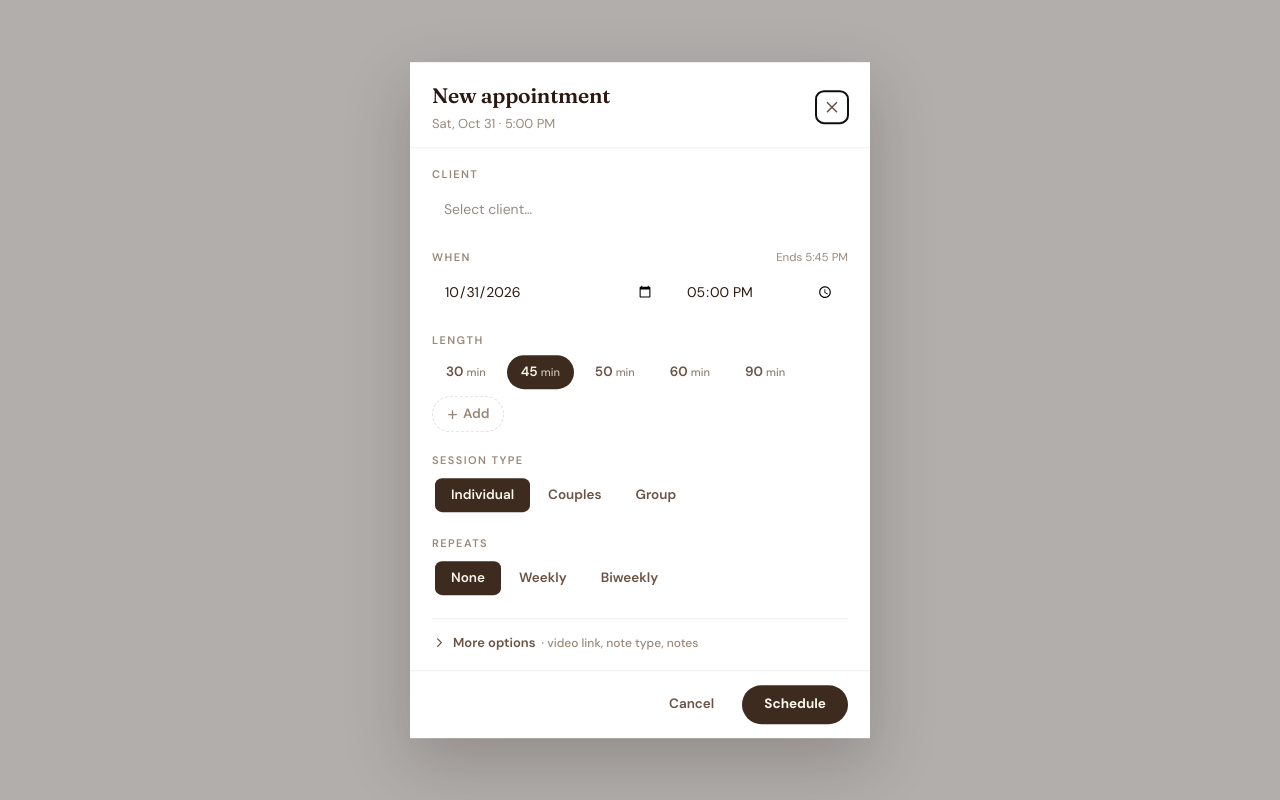
Test: AppointmentModal › Auto-title caption › lets the user override the title and reset it back to auto
Click the dropdown labelled "Select client…". click: (640, 209)
box: [432,189,848,229]
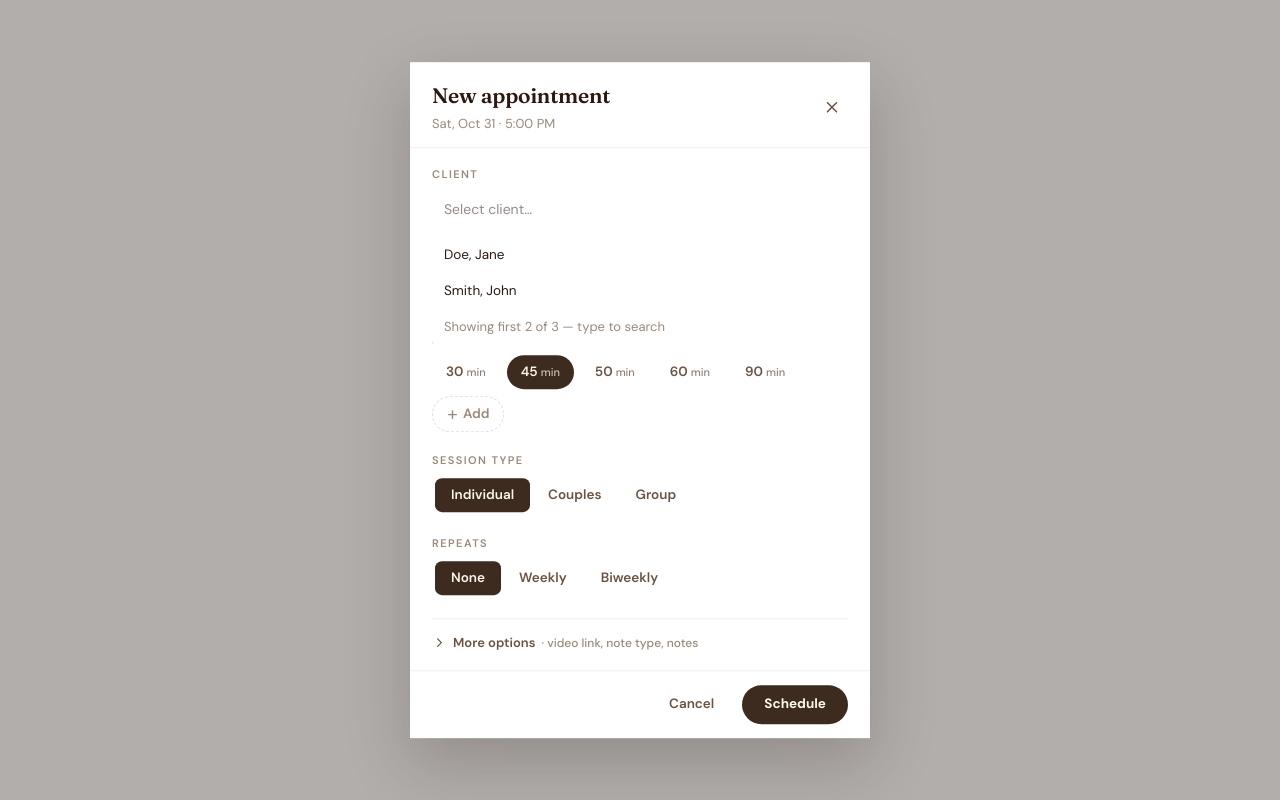
Click the option "Doe, Jane". click: (474, 254)
box: [444,246,504,263]
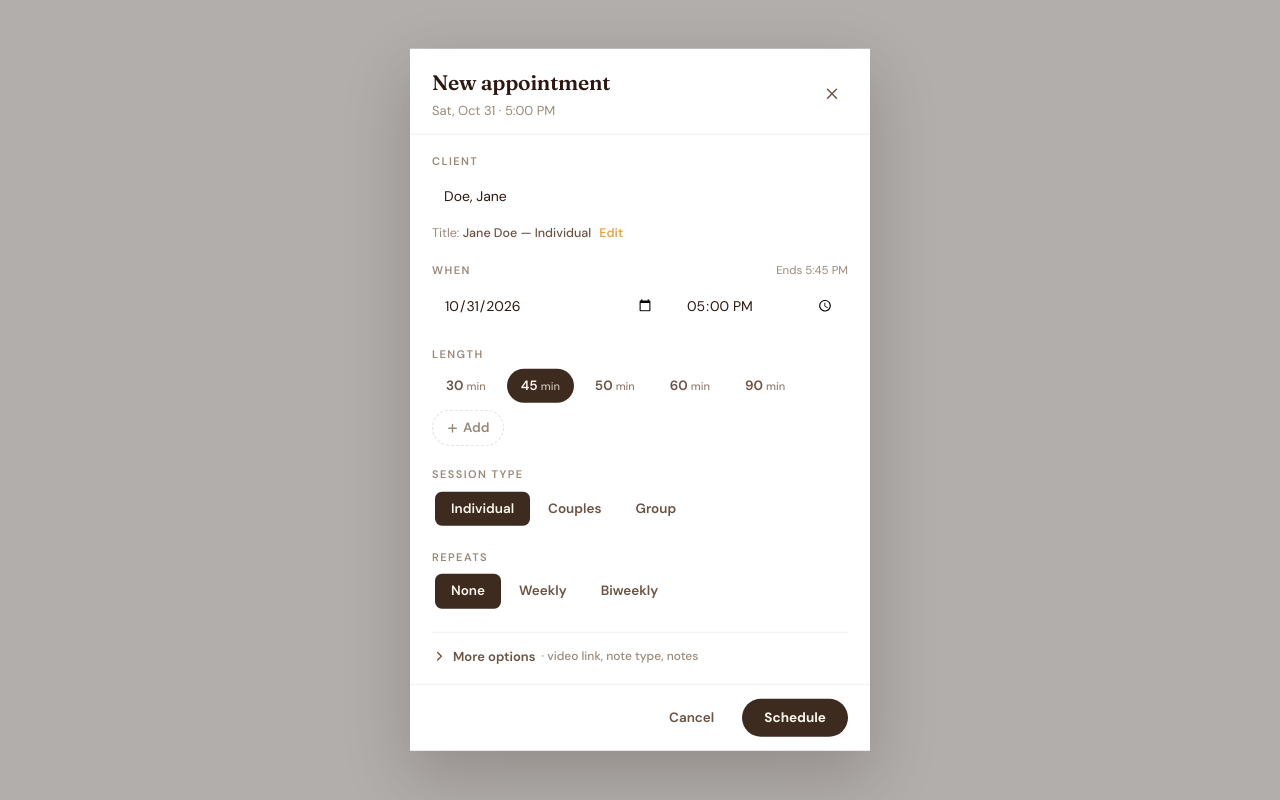
Click the button "Edit". click: (611, 233)
box: [599,223,623,242]
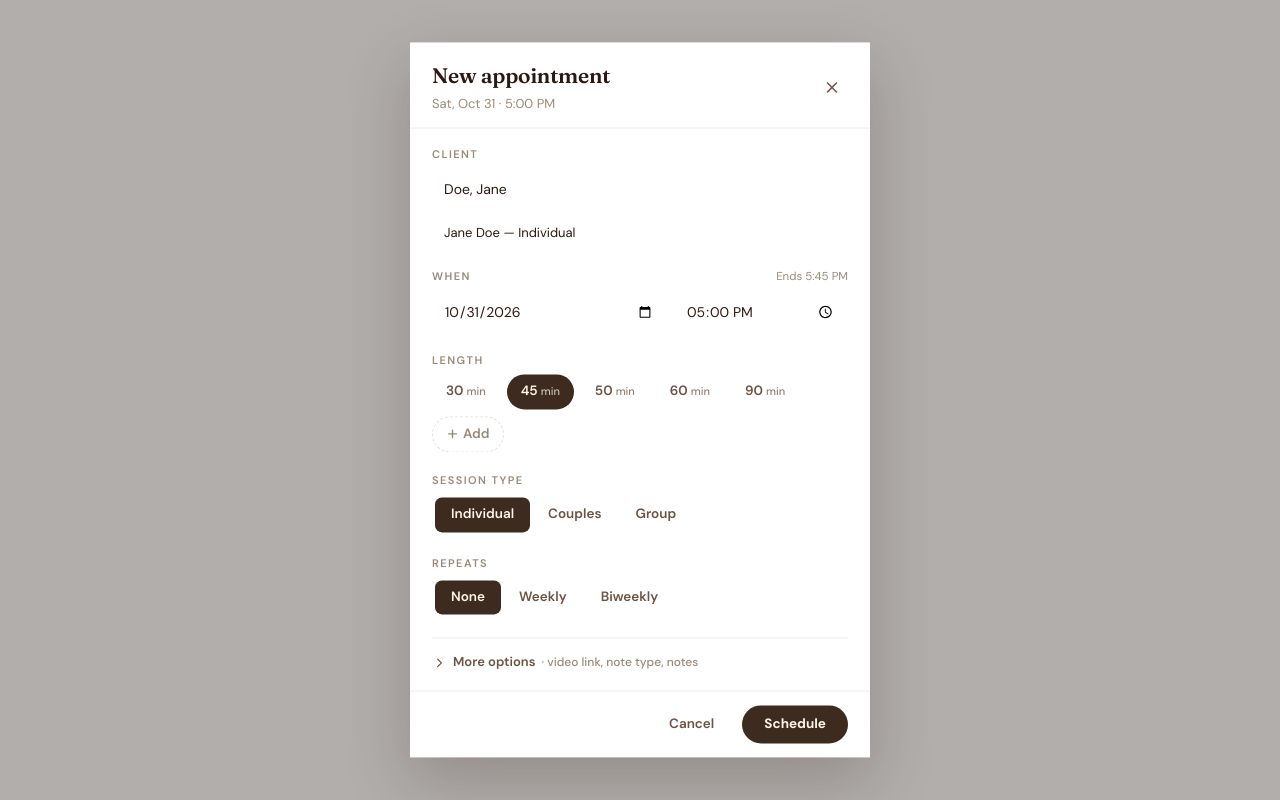
Replace the text in the field named "Title" with "Custom Title". click: (640, 233)
box: [432,217,848,248]
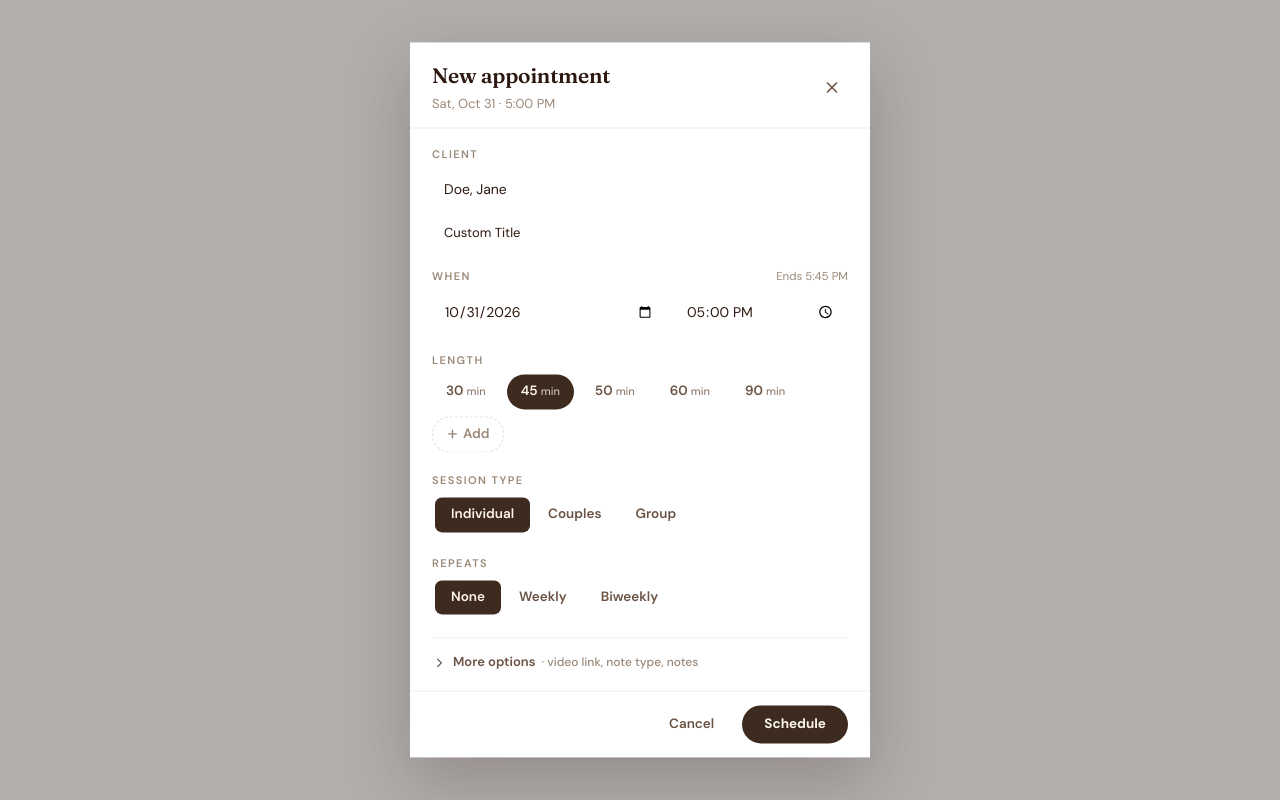
# Blur out of the inline editor to commit the override.
Press Tab
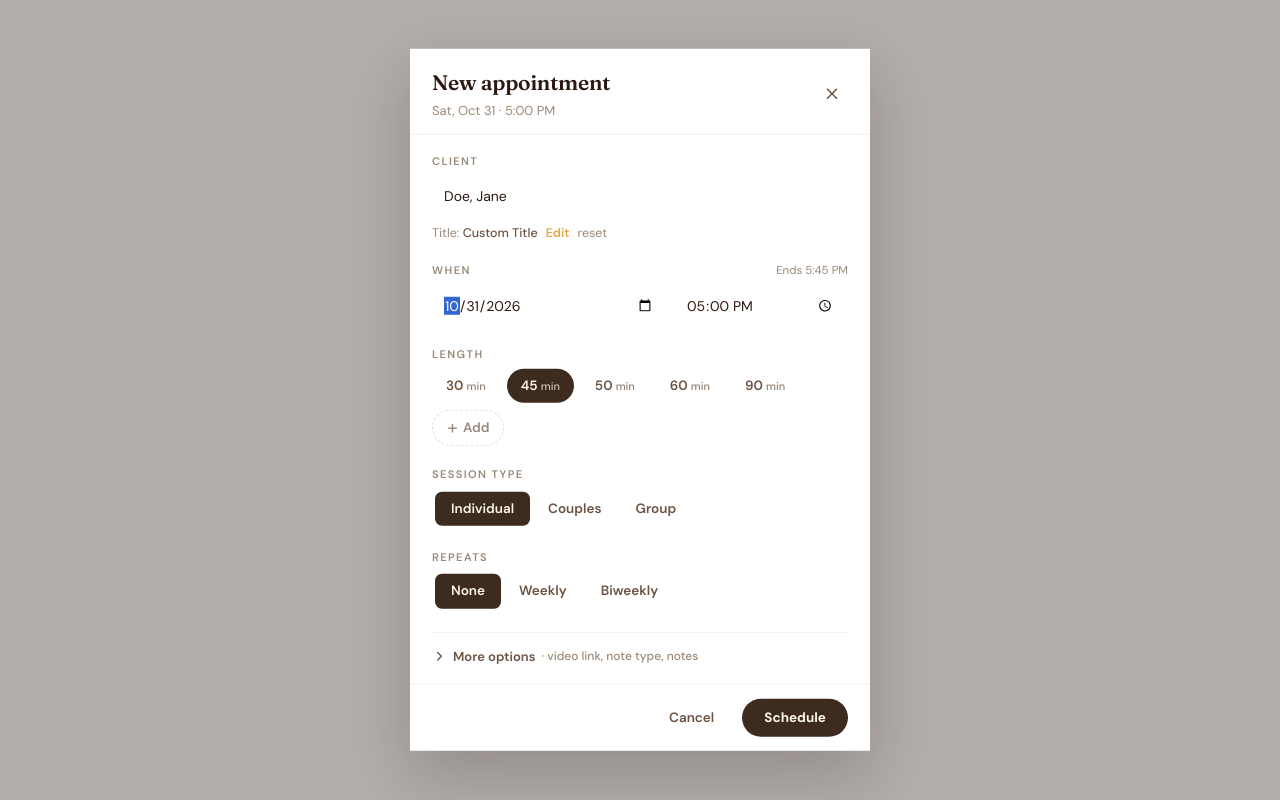
Result: the text "Custom Title" is shown at [463,224,538,240]
Click the button "reset". click: (592, 233)
box: [578,223,607,242]
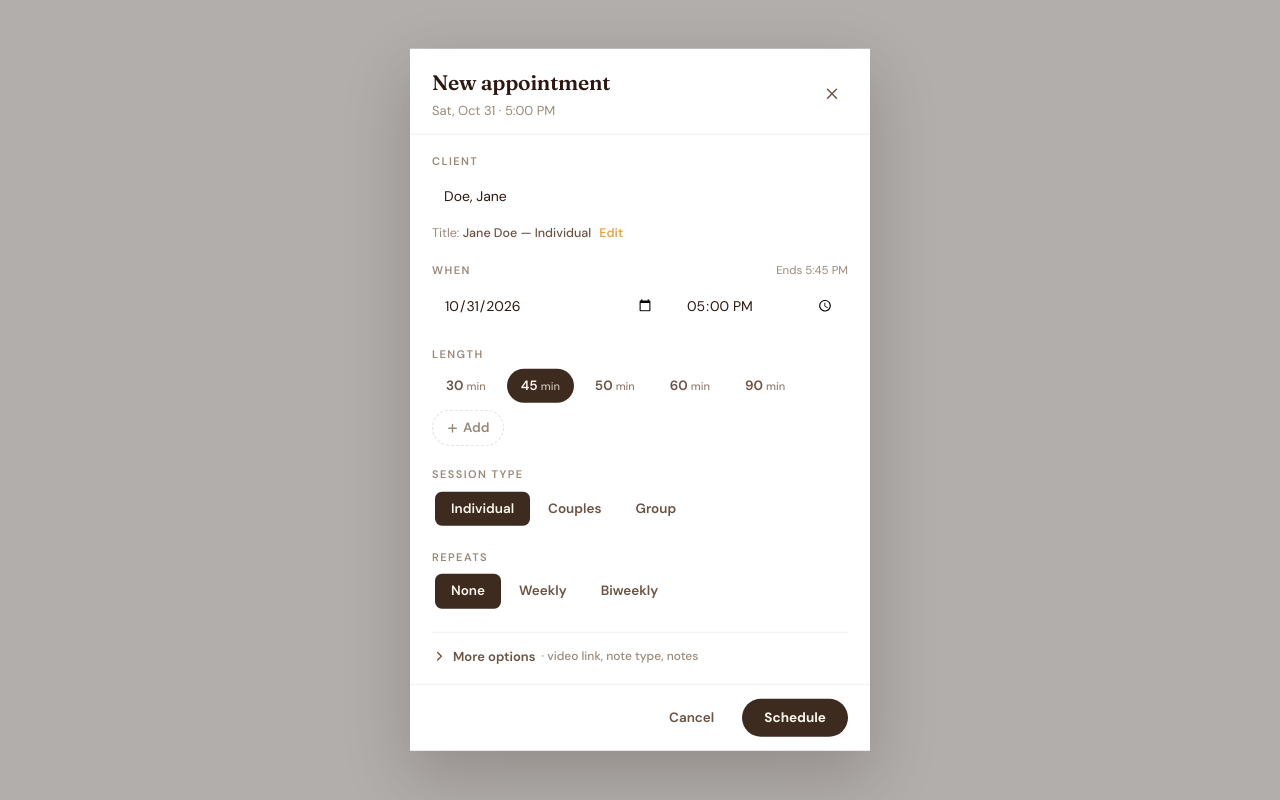
Result: the text "Jane Doe — Individual" is shown at [463,224,591,240]
